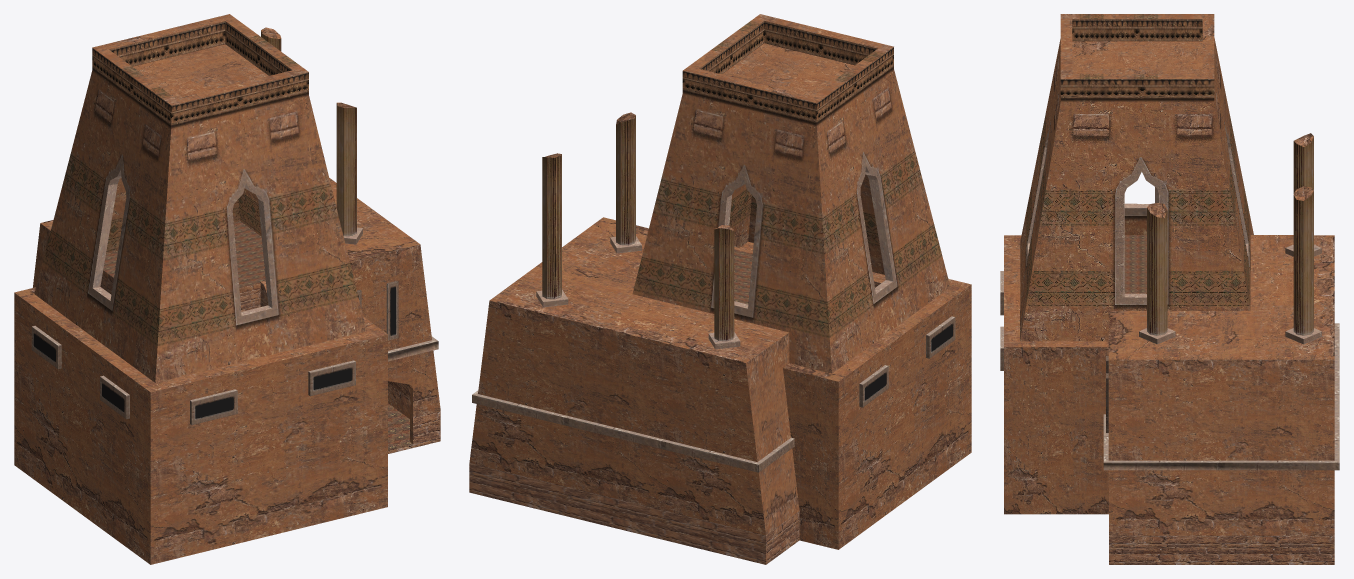
File: IFRTe.glb
3 views of the same model, side by side, from view 1: azimuth 30°, elevation 25°; view 2: azimuth 150°, elevation 25°; view 3: azimuth 270°, elevation 25° (orthographic). The views are drawn at different scales.
Visible parts, largest first — view 1: _IFRTe; view 2: _IFRTe; view 3: _IFRTe.
Boxes of the visible parts, box(x1,y1,x2,y2) form: _IFRTe: box(14, 14, 440, 564); _IFRTe: box(469, 14, 971, 564); _IFRTe: box(1000, 14, 1339, 564).
Bounding box in the file's own units: 26.07 × 30.51 × 22.72.
6 materials, 6 textured.
